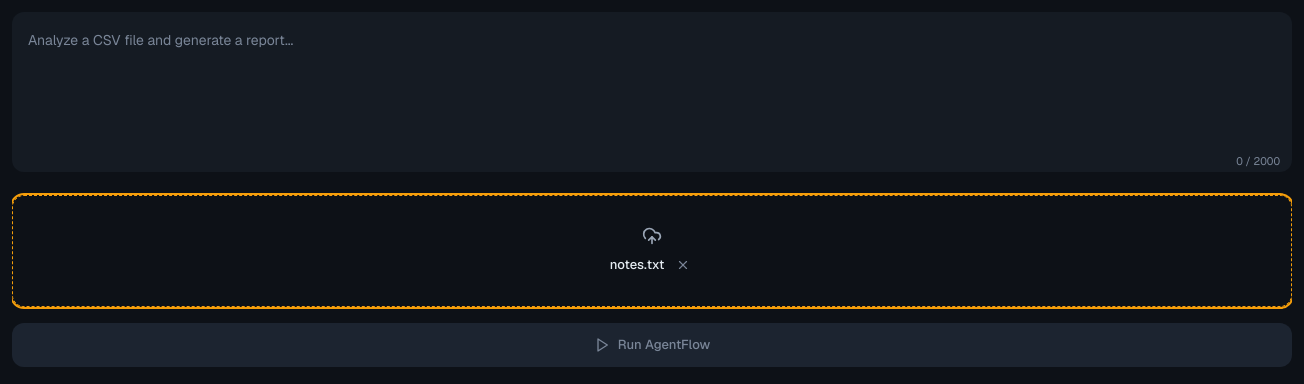
Test: TaskInput — upload › removes the selected file
Earlier steps of the test are not shown.
Click the button named "remove file": (683, 265) [672, 254, 694, 276]
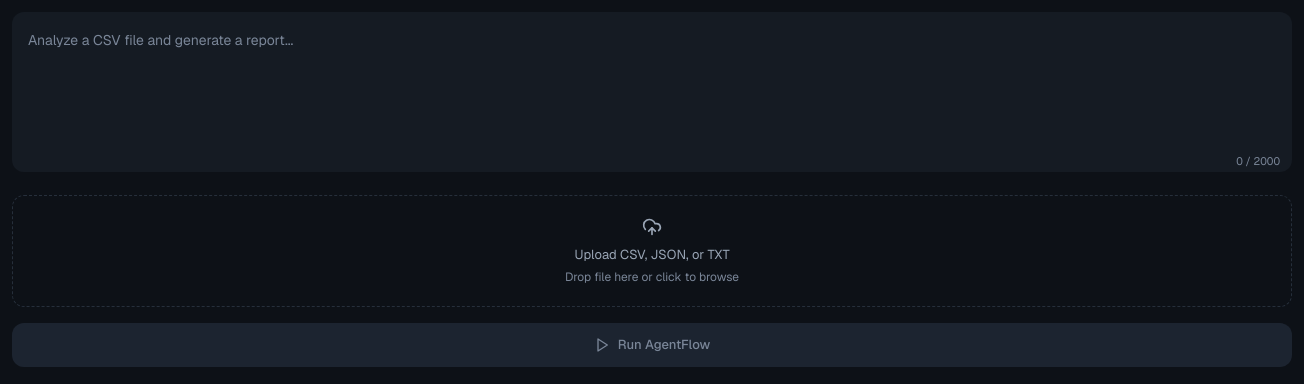
Check: the text "notes.txt" is gone
Check: the text "Drop file here or click to browse" is shown, box [565, 269, 739, 285]
